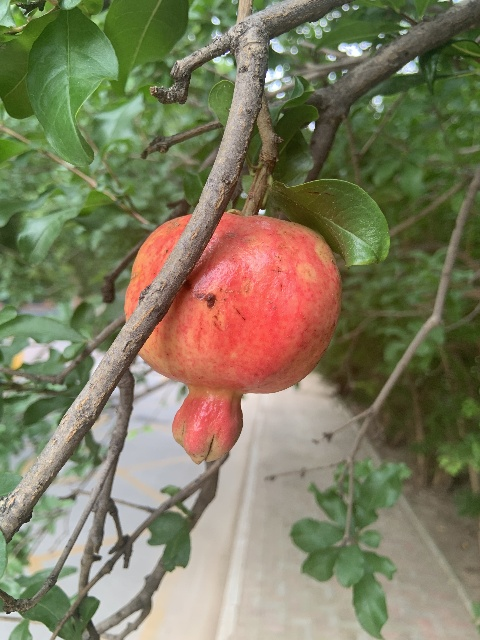ripe: (125, 212, 342, 464)
